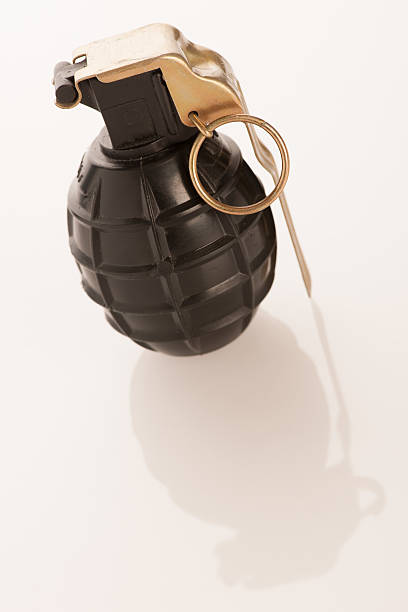e1: (49, 23, 315, 354)
